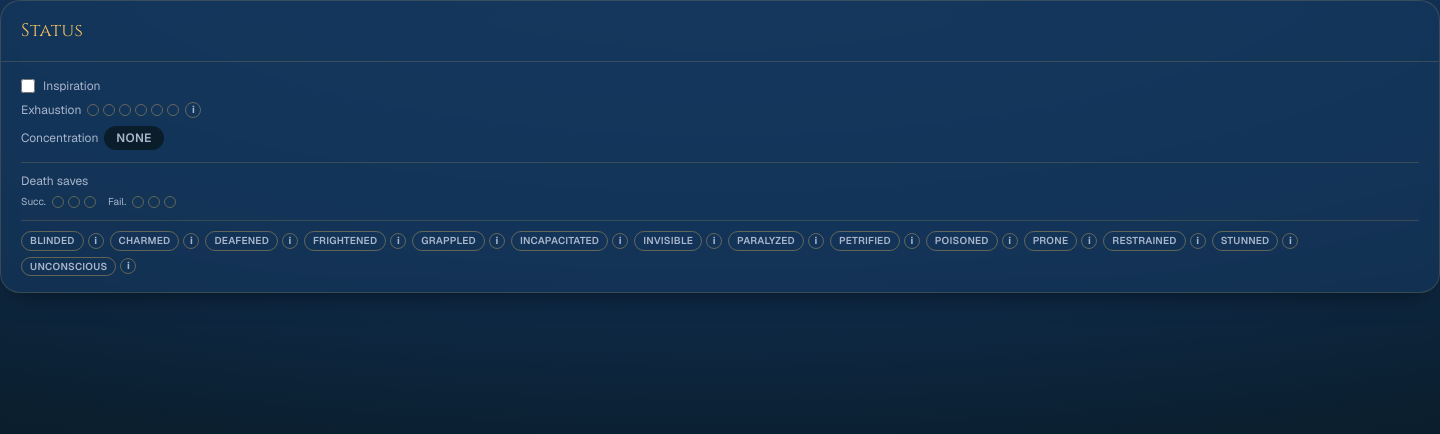
Test case: StatusPanel › exhaustion › the tooltip says so when there is no exhaustion
Hover over the button named "About Exhaustion 0" at (193, 110), box left=185, top=102, right=201, bottom=118
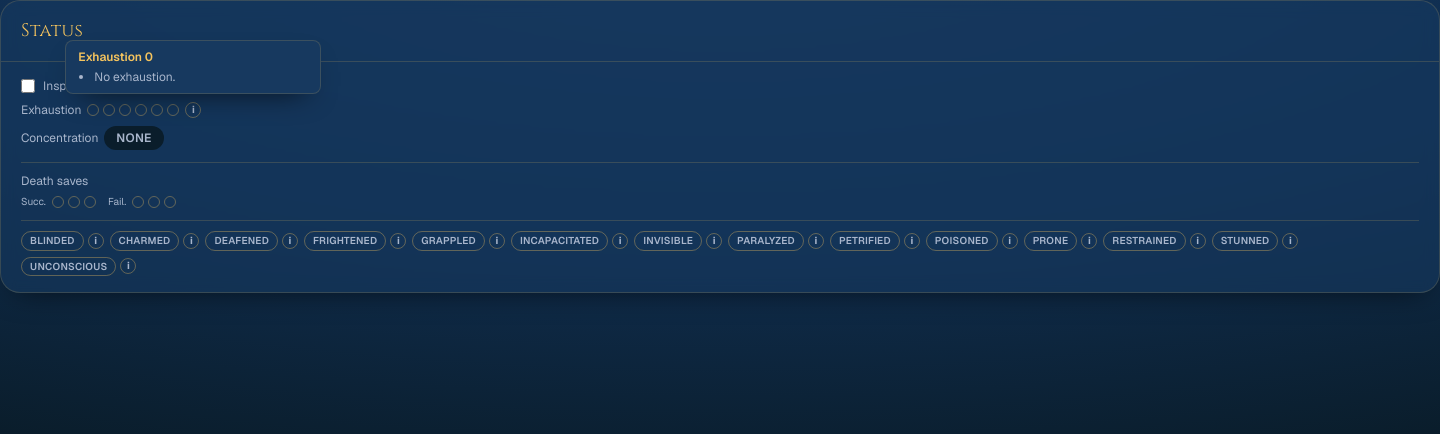
Now the tooltip shows "No exhaustion.", box left=94, top=69, right=175, bottom=85
